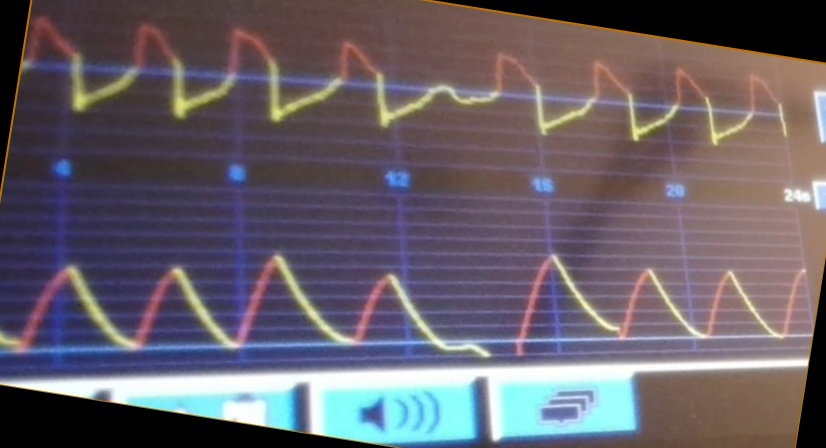Ineffective_effort Flow: (29, 14, 790, 147)
Ineffective_effort Volume: (1, 240, 810, 358)
